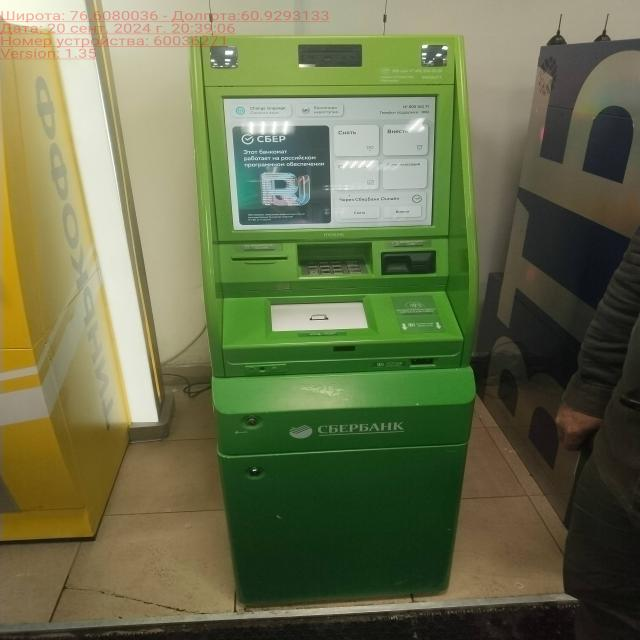bank: (188, 33, 477, 606)
